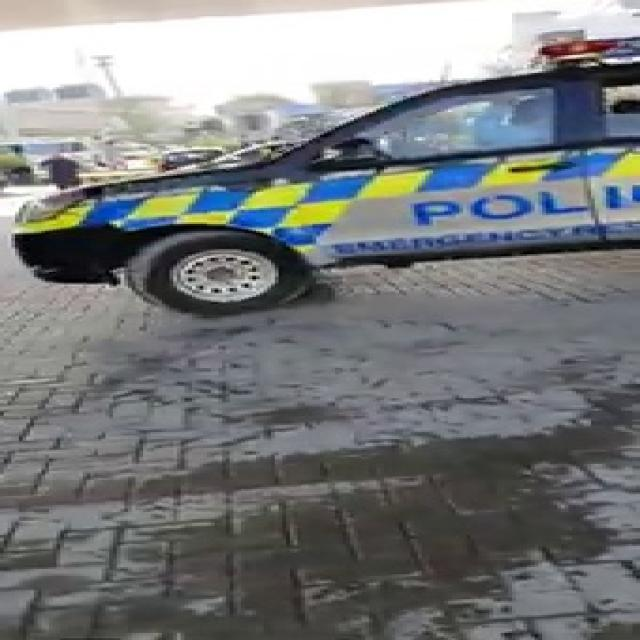police: (7, 18, 640, 290)
